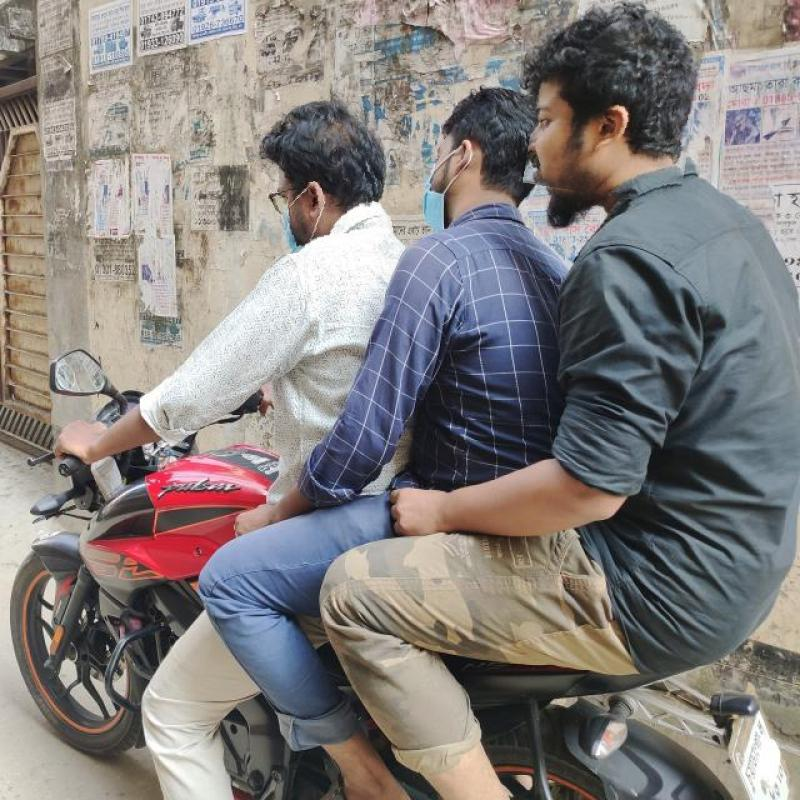nohelmet: (530, 0, 702, 201), (254, 98, 390, 252), (420, 89, 546, 244)
